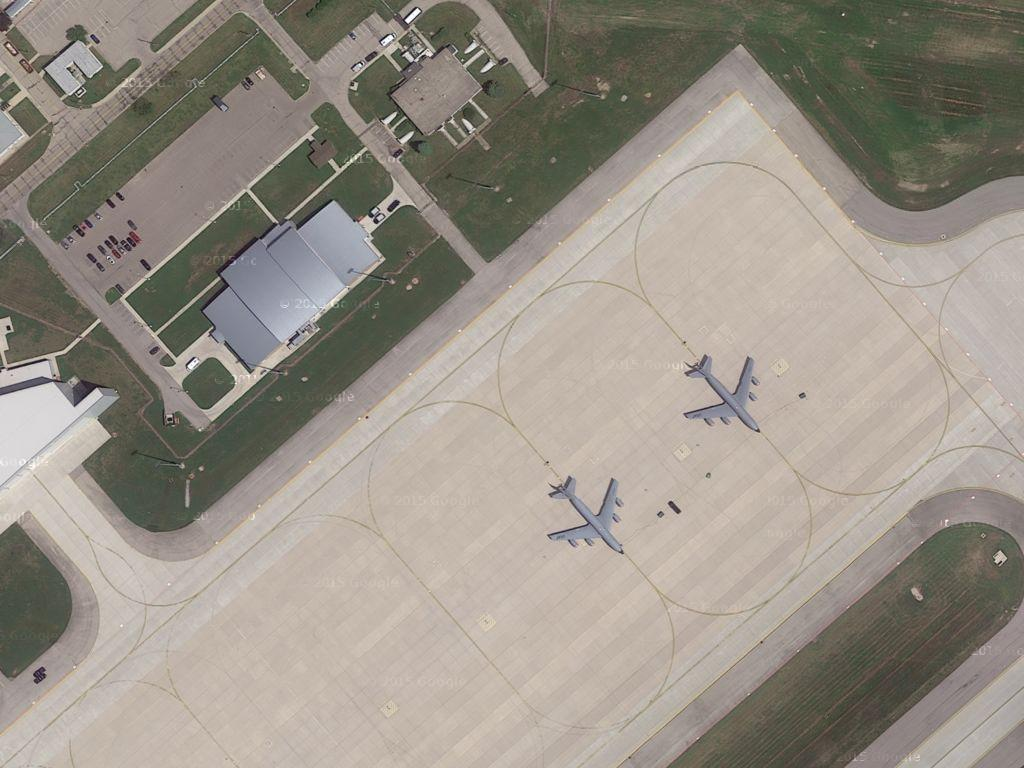KC-135: (544, 475, 632, 560), (681, 348, 763, 438)
